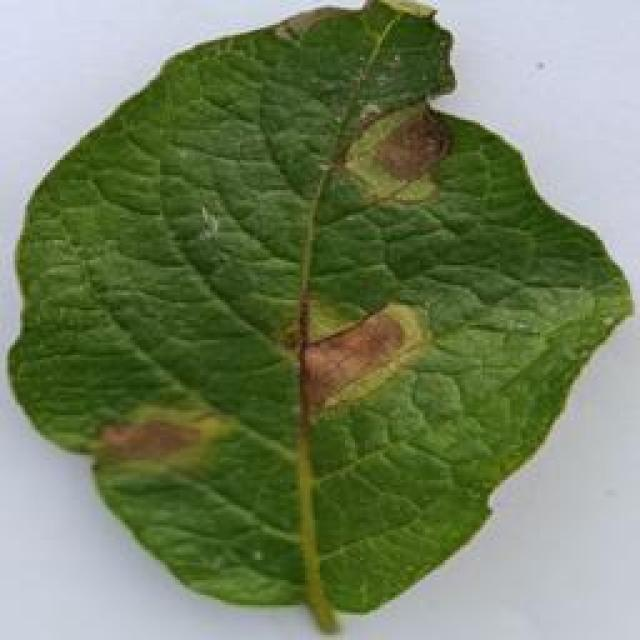Potato_Late_Blight: (10, 12, 578, 640)
